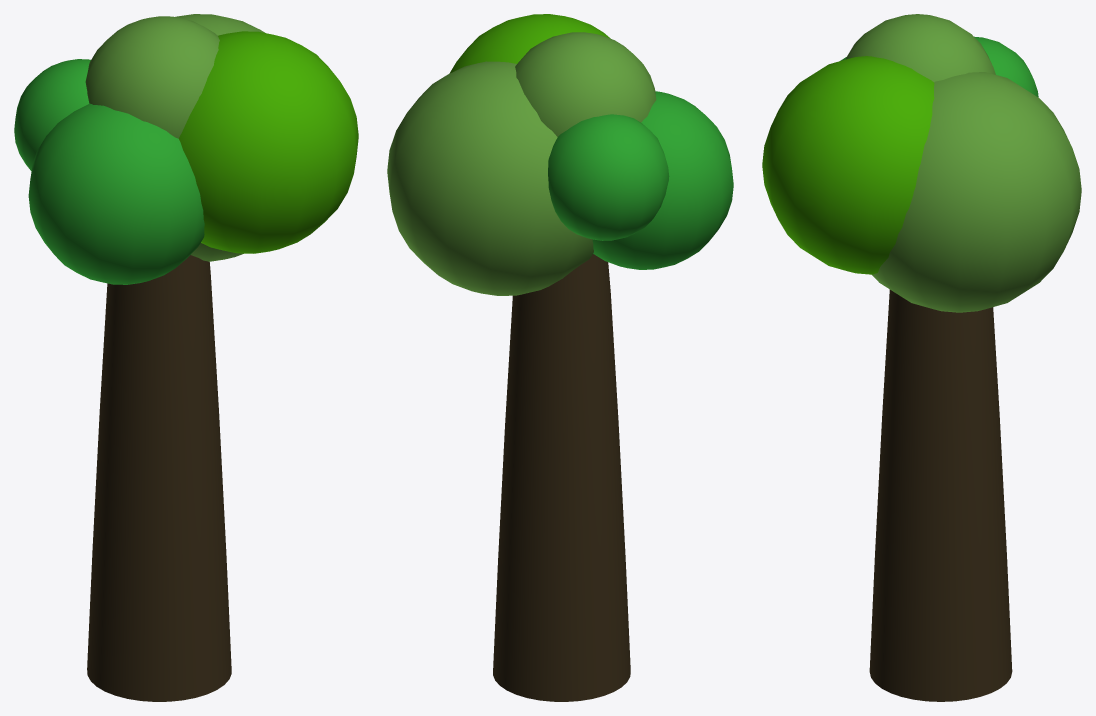
Rendered from Tree_3.fbx.
The picture shows the model from 3 angles, left to right: view 1: azimuth 30°, elevation 25°; view 2: azimuth 150°, elevation 25°; view 3: azimuth 270°, elevation 25°; orthographic projection. The views are drawn at different scales.
Parts seen in each view (by area): view 1: Tree_3; view 2: Tree_3; view 3: Tree_3.
Part boxes in pixels (x1,y1,x2,y2): Tree_3: (14,14,358,701); Tree_3: (387,14,733,701); Tree_3: (762,14,1081,701).
Size of the model in its own units: 5.2 by 10.82 by 4.85.
